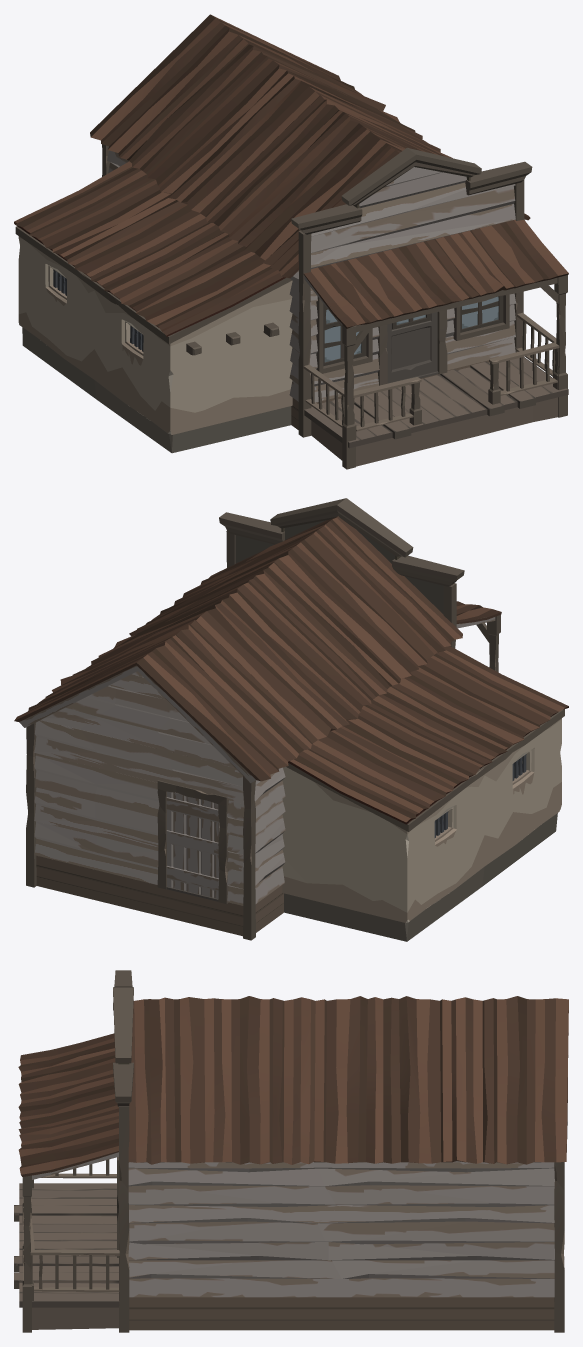
Rendered from SM_Bld_Jail_01.fbx.
3 renders of one model, top to bottom at view 1: azimuth 30°, elevation 25°; view 2: azimuth 150°, elevation 25°; view 3: azimuth 270°, elevation 25°, orthographic. The views are drawn at different scales.
Visible parts, largest first — view 1: SM_Bld_Jail_01, SM_Building_Jail_FrontDoor_01, SM_Building_Jail_Window_01; view 2: SM_Bld_Jail_01, SM_Bld_Jail_BackDoor_01; view 3: SM_Bld_Jail_01.
Boxes of the visible parts, left/top/right/bottom form: SM_Bld_Jail_01: left=14, top=14, right=568, bottom=469; SM_Building_Jail_FrontDoor_01: left=386, top=312, right=437, bottom=383; SM_Building_Jail_Window_01: left=324, top=296, right=498, bottom=362; SM_Bld_Jail_01: left=14, top=498, right=568, bottom=941; SM_Bld_Jail_BackDoor_01: left=166, top=791, right=219, bottom=898; SM_Bld_Jail_01: left=14, top=970, right=568, bottom=1332.
Bounding box in the file's own units: 846 × 579 × 1020.
